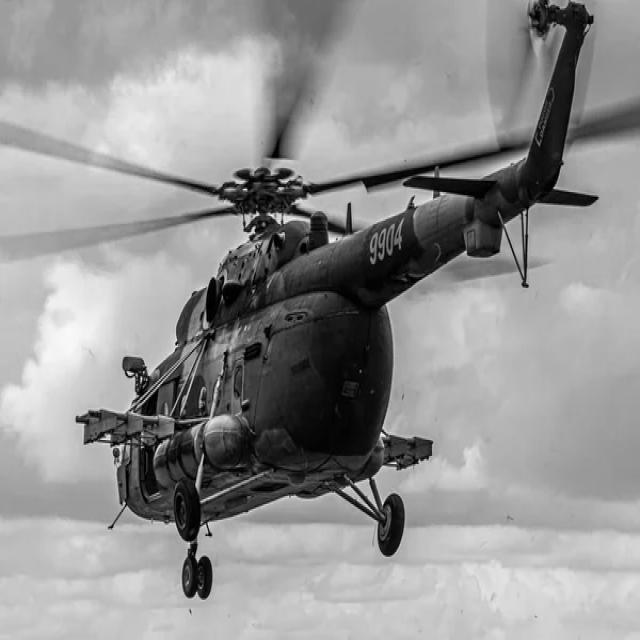Helicopter: (2, 1, 596, 596)
